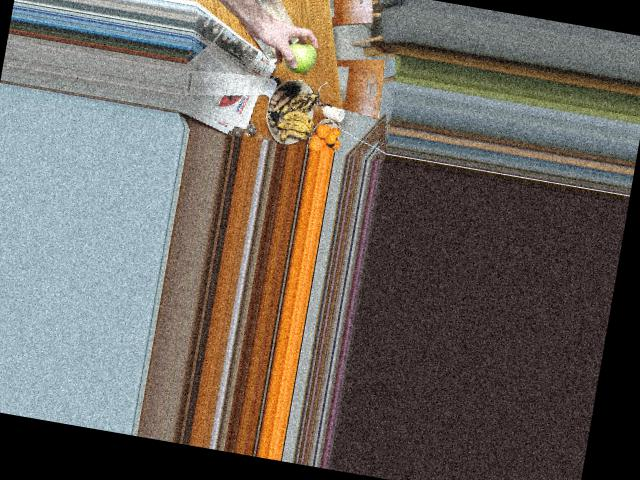apple: (278, 39, 319, 74)
